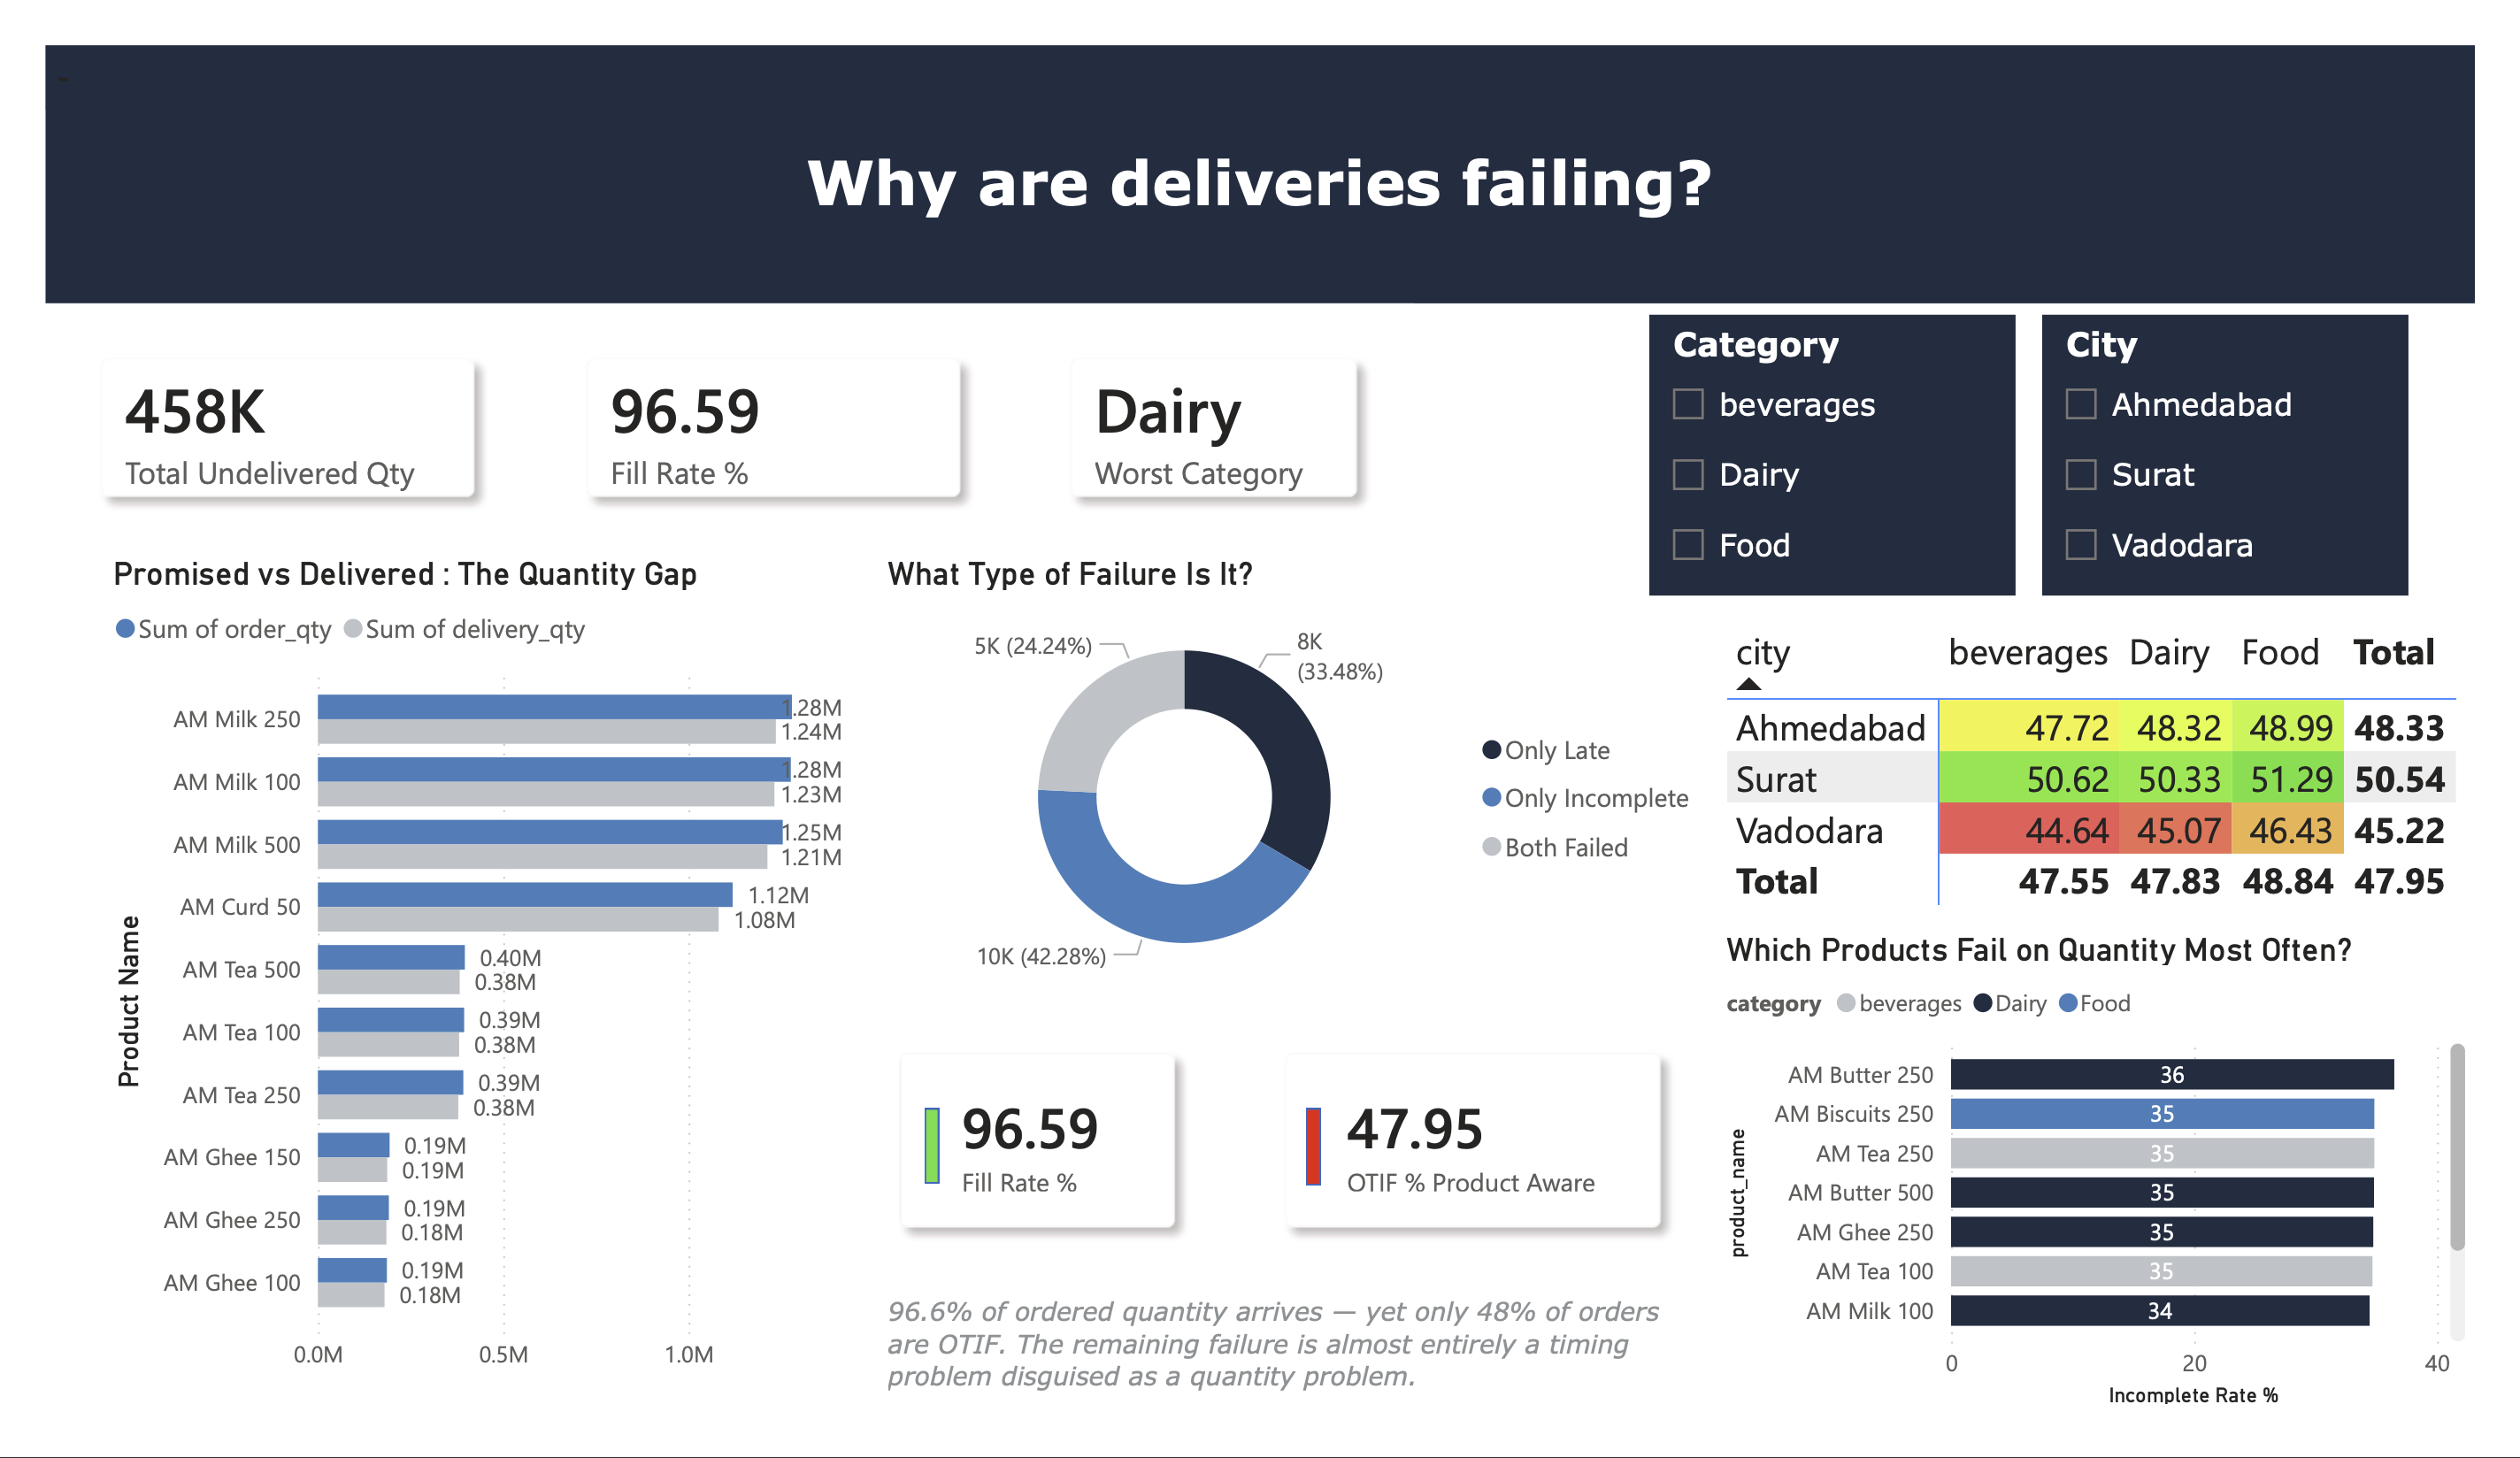

This screenshot's page, from the dashboard's own definition file:
{"tool":"powerbi","page":{"name":"Product and Operational Diagnostics","canvas":[1280,720],"ordinal":2},"visuals":[{"type":"textbox","title":"-","box":[0,0,1280,136.1],"z":0},{"type":"cardVisual","fields":{"Data":["fact_orders_aggregate.Fill Rate %"]},"box":[430.1,504.9,227.6,158.2],"z":0,"group":"g1"},{"type":"cardVisual","fields":{"Data":["fact_orders_aggregate.Total Undelivered Qty"]},"box":[0,136,255.7,131.5],"z":1000},{"type":"cardVisual","fields":{"Data":["fact_orders_aggregate.OTIF %"]},"box":[657.7,505.5,214.3,158.2],"z":1000,"group":"g1"},{"type":"cardVisual","fields":{"Data":["fact_orders_aggregate.Fill Rate %"]},"box":[255.7,136,255.7,131.5],"z":2000},{"type":"shape","box":[699.1,566.1,8.9,42.9],"z":2000,"group":"g1"},{"type":"cardVisual","fields":{"Data":["fact_orders_aggregate.Worst Category"]},"box":[511.4,136,209.9,131.5],"z":3000},{"type":"shape","box":[471.5,564.6,8.9,42.9],"z":3000,"group":"g1"},{"type":"clusteredBarChart","title":"Promised vs Delivered : The Quantity Gap","fields":{"Category":["dim_products.product_name"],"Y":["Sum(fact_order_lines.order_qty)","Sum(fact_order_lines.delivery_qty)"]},"box":[31,267.5,407.9,440.5],"z":4000},{"type":"donutChart","title":"What Type of Failure Is It?","fields":{"Y":["fact_orders_aggregate.Only Late","fact_orders_aggregate.Only Incomplete","fact_orders_aggregate.Both Failed"]},"box":[439,267.5,441.9,238],"z":5000},{"type":"group","id":"g1","title":"Group 1","box":[430.1,504.9,441.9,158.7],"z":6000},{"type":"textbox","box":[439,645.9,441.9,62.1],"z":7000},{"type":"pivotTable","fields":{"Rows":["dim_customers.city"],"Columns":["dim_products.category"],"Values":["fact_orders_aggregate.OTIF %"]},"box":[880.9,300,399.1,165.5],"z":8000},{"type":"barChart","title":"Which Products Fail on Quantity Most Often?","fields":{"Category":["dim_products.product_name"],"Y":["fact_orders_aggregate.Incomplete Rate %"],"Series":["dim_products.category"]},"box":[880.9,465.6,399.1,255.7],"z":9000},{"type":"slicer","fields":{"Values":["dim_customers.city"]},"box":[1052.4,141.9,192.1,147.8],"z":10000},{"type":"slicer","fields":{"Values":["dim_products.category"]},"box":[845.5,141.9,192.1,147.8],"z":11000}]}

Visuals, with their boxes in screenshot pixels (x1, y1, x2, y2), scaled from the page's 1280x720 canvas onto the 2520x1458 screenshot:
"-" textbox: locate(0, 0, 2519, 276)
cardVisual - fact_orders_aggregate.Fill Rate %: locate(847, 1023, 1295, 1343)
cardVisual - fact_orders_aggregate.Total Undelivered Qty: locate(0, 275, 503, 541)
cardVisual - fact_orders_aggregate.OTIF %: locate(1295, 1024, 1717, 1344)
cardVisual - fact_orders_aggregate.Fill Rate %: locate(503, 275, 1007, 541)
shape: locate(1376, 1147, 1394, 1233)
cardVisual - fact_orders_aggregate.Worst Category: locate(1007, 275, 1420, 541)
shape: locate(928, 1143, 946, 1230)
"Promised vs Delivered : The Quantity Gap" clusteredBarChart: locate(61, 541, 864, 1434)
"What Type of Failure Is It?" donutChart: locate(864, 541, 1734, 1024)
"Group 1" group: locate(847, 1023, 1717, 1344)
textbox: locate(864, 1308, 1734, 1434)
pivotTable - dim_customers.city x dim_products.category: locate(1734, 608, 2519, 942)
"Which Products Fail on Quantity Most Often?" barChart: locate(1734, 943, 2519, 1457)
slicer - dim_customers.city: locate(2072, 288, 2450, 587)
slicer - dim_products.category: locate(1664, 288, 2043, 587)
